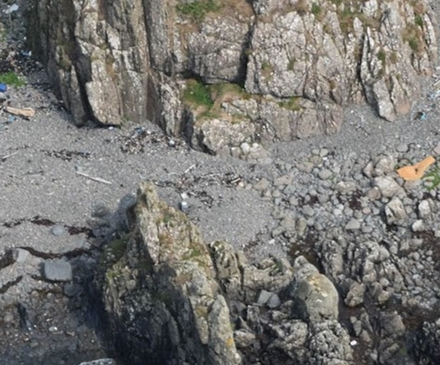straight_bar: (3, 97, 41, 125)
white_in_green: (384, 136, 440, 195)
